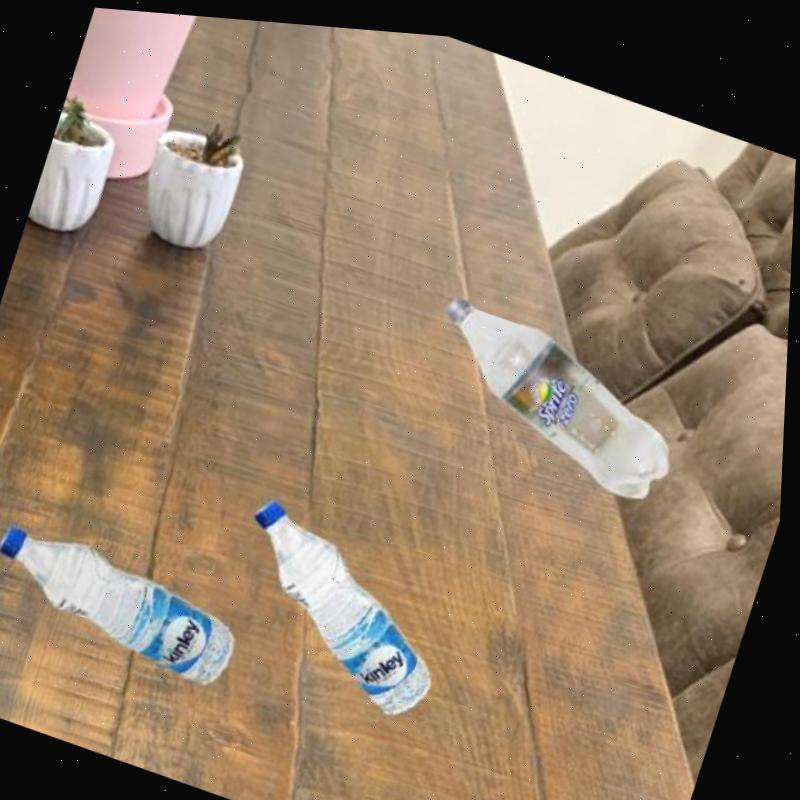botella: (409, 282, 700, 498), (213, 488, 474, 721), (0, 516, 255, 691)
